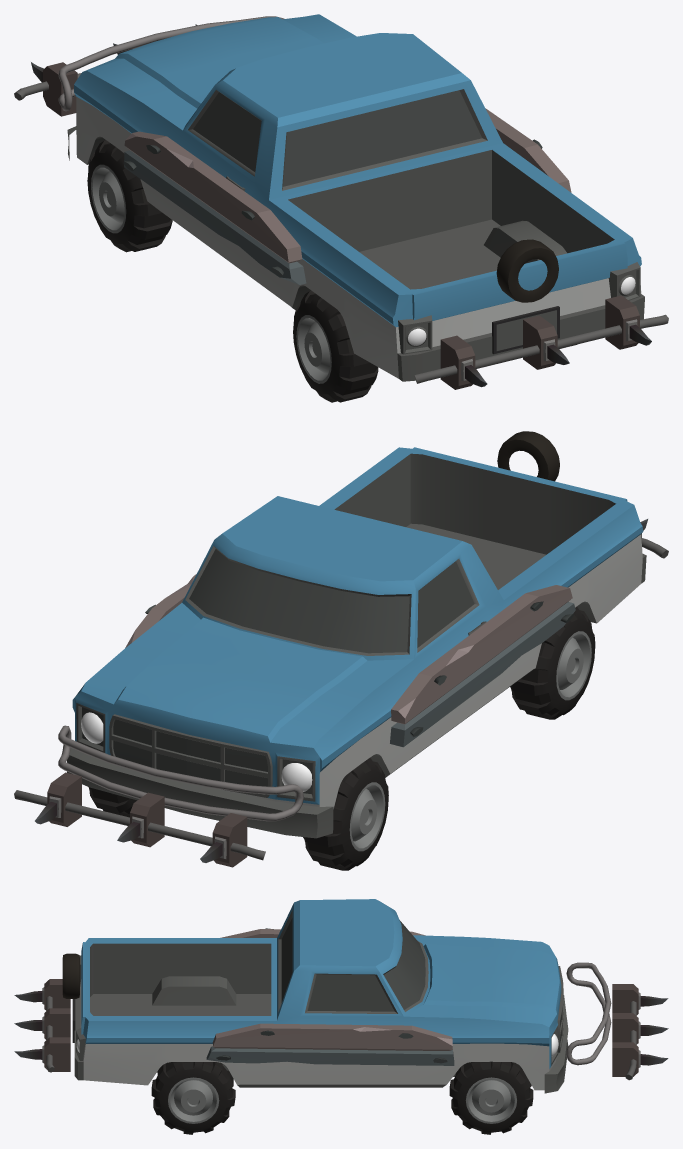
The model's file is car_titan.glb.
3 views of the same model, one above another, from view 1: azimuth 30°, elevation 25°; view 2: azimuth 150°, elevation 25°; view 3: azimuth 270°, elevation 25° (orthographic). The views are drawn at different scales.
Visible parts, largest first — view 1: body_mesh, armor_1_mesh, armor_2_mesh, wheel_RL_mesh, wheel_FL_mesh, armor_3_mesh; view 2: body_mesh, armor_1_mesh, armor_3_mesh, wheel_RL_mesh, wheel_FL_mesh, armor_2_mesh, wheel_FR_mesh; view 3: body_mesh, armor_1_mesh, wheel_RR_mesh, wheel_FR_mesh, armor_2_mesh, armor_3_mesh.
Boxes of the visible parts, x1,y1,x2,y2 form: body_mesh: (67, 14, 644, 381); armor_1_mesh: (123, 108, 571, 284); armor_2_mesh: (58, 16, 668, 389); wheel_RL_mesh: (293, 290, 378, 402); wheel_FL_mesh: (87, 140, 172, 252); armor_3_mesh: (14, 24, 558, 302); body_mesh: (67, 447, 646, 838); armor_1_mesh: (125, 574, 575, 747); armor_3_mesh: (14, 431, 559, 867); wheel_RL_mesh: (510, 606, 595, 719); wheel_FL_mesh: (303, 757, 388, 870); armor_2_mesh: (58, 519, 668, 821); wheel_FR_mesh: (88, 787, 136, 817); body_mesh: (72, 899, 568, 1093); armor_1_mesh: (206, 928, 454, 1065); wheel_RR_mesh: (151, 1062, 235, 1134); wheel_FR_mesh: (449, 1061, 533, 1134); armor_2_mesh: (14, 962, 611, 1072); armor_3_mesh: (62, 953, 668, 1080).
Size of the model in its own units: 2.19 by 1.57 by 5.81.
4 materials, 2 textured.
